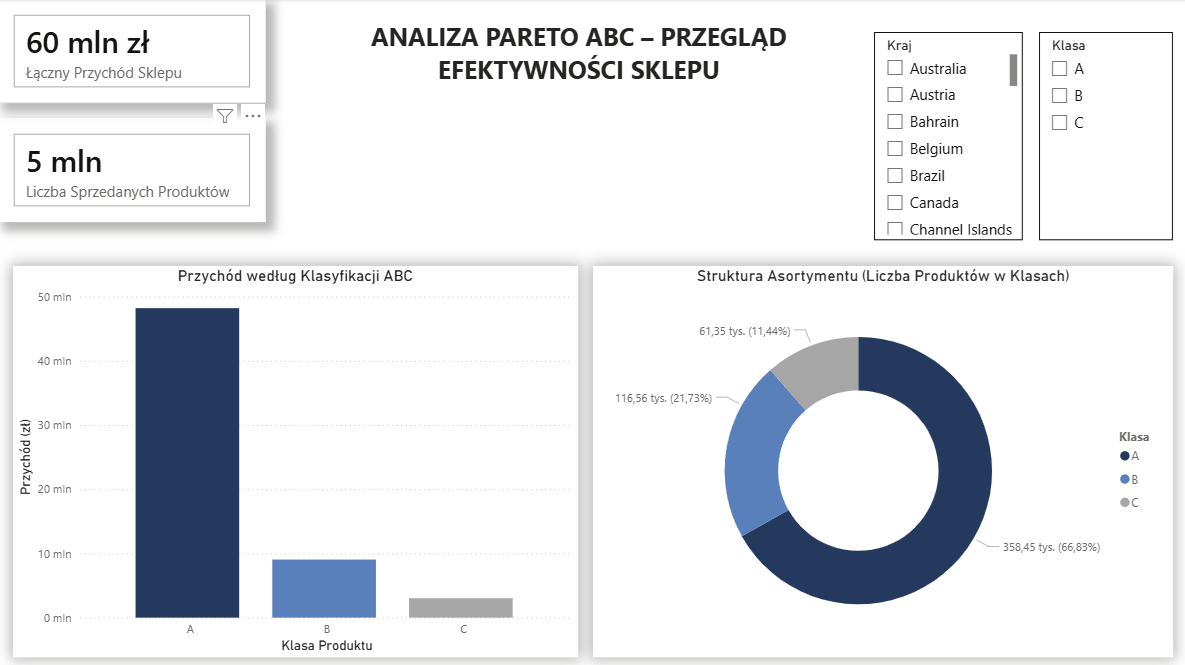

This screenshot's page, from the dashboard's own definition file:
{"tool":"powerbi","page":{"name":"Podsumowanie ABC","canvas":[1280,720],"ordinal":0},"visuals":[{"type":"columnChart","title":"Przychód według Klasyfikacji ABC","fields":{"Category":["Sales Transaction.Klasa"],"Y":["Sum(Sales Transaction.Total_Revenue)"]},"box":[16.2,287.5,607.5,421.2],"z":0},{"type":"cardVisual","fields":{"Data":["Sum(Sales Transaction.Quantity)"]},"box":[0,128,288,112],"z":1000},{"type":"cardVisual","fields":{"Data":["Sum(Sales Transaction.Total_Revenue)"]},"box":[0,0,288,112],"z":2000},{"type":"slicer","fields":{"Values":["Sales Transaction.Country"]},"box":[942.5,35,160,223.8],"z":3000},{"type":"slicer","fields":{"Values":["Sales Transaction.Klasa"]},"box":[1120,35,143.8,223.8],"z":4000},{"type":"donutChart","title":"Struktura Asortymentu (Liczba Produktów w Klasach)","fields":{"Category":["Sales Transaction.Klasa"],"Y":["Count(Sales Transaction.ProductNo)"]},"box":[640,287.5,623.8,421.2],"z":5000},{"type":"textbox","box":[352.5,16.2,543.8,111.2],"z":6000}]}

Visuals, with their boxes in screenshot pixels (x1, y1, x2, y2), scaled from the page's 1280x720 canvas onto the 1185x665 screenshot:
"Przychód według Klasyfikacji ABC" columnChart: left=15, top=266, right=577, bottom=655
cardVisual - Sum(Sales Transaction.Quantity): left=0, top=118, right=267, bottom=222
cardVisual - Sum(Sales Transaction.Total_Revenue): left=0, top=0, right=267, bottom=103
slicer - Sales Transaction.Country: left=873, top=32, right=1021, bottom=239
slicer - Sales Transaction.Klasa: left=1037, top=32, right=1170, bottom=239
"Struktura Asortymentu (Liczba Produktów w Klasach)" donutChart: left=592, top=266, right=1170, bottom=655
textbox: left=326, top=15, right=830, bottom=118
